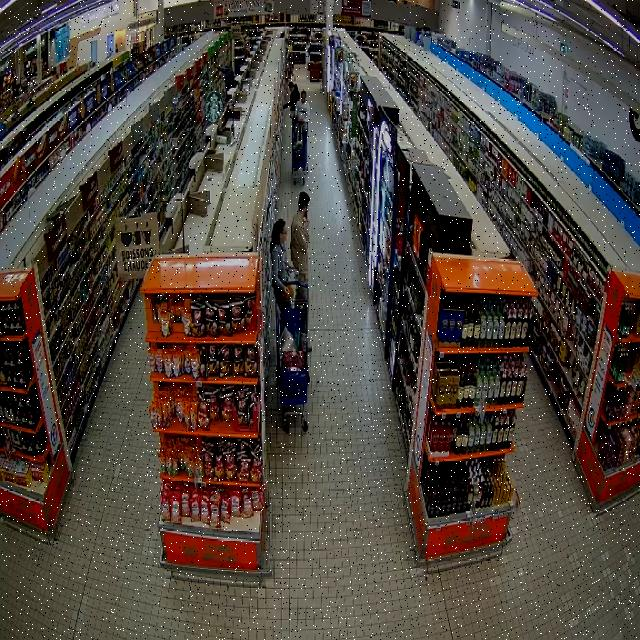bags: (281, 286, 293, 300)
hands: (282, 286, 289, 294)
person: (272, 219, 297, 309), (291, 191, 309, 282), (294, 90, 310, 131), (283, 81, 299, 114)
